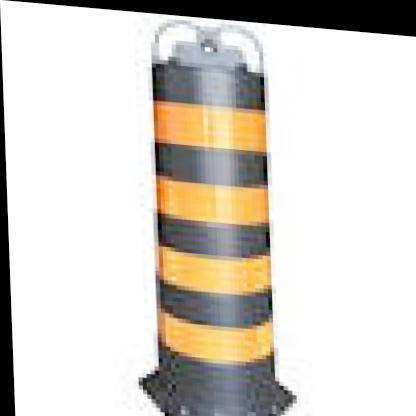obstacle: (138, 51, 294, 407)
